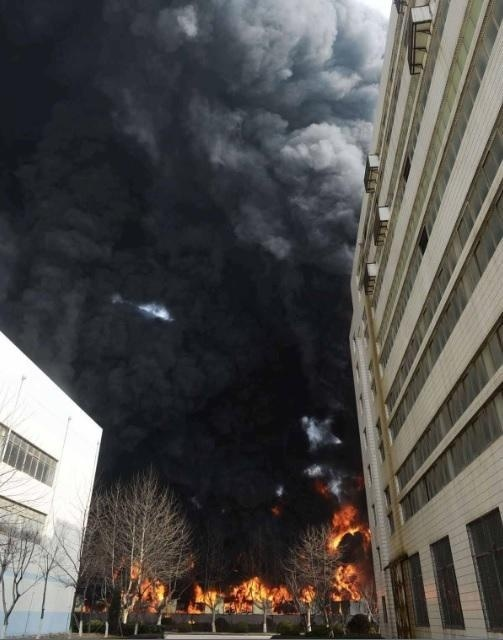fire: (325, 493, 370, 601)
